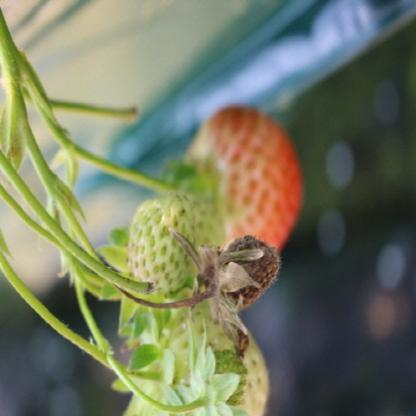Strawberry_Gray_Mold: (171, 229, 283, 346)
